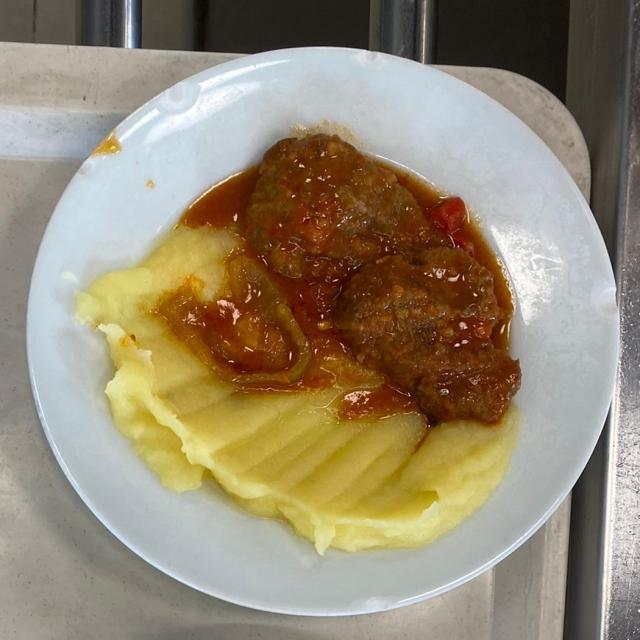ana_yemek: (77, 127, 524, 555)
